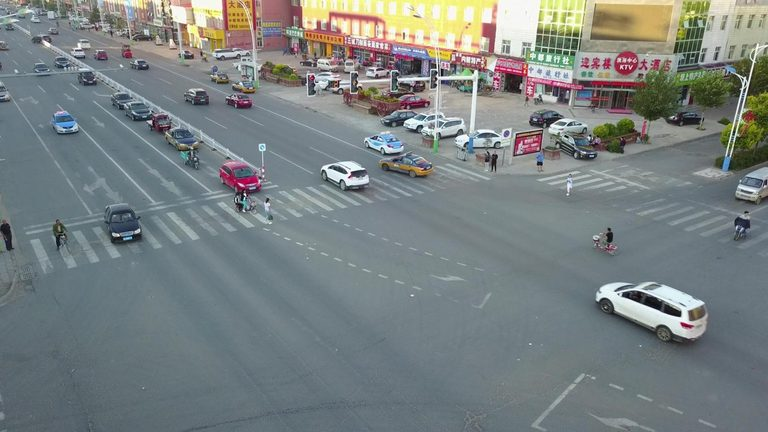bicycle: (54, 227, 73, 254), (232, 197, 258, 215)
car: (595, 280, 708, 343), (319, 160, 370, 190), (103, 203, 141, 243), (379, 151, 433, 178), (219, 162, 261, 195), (556, 131, 597, 160), (455, 129, 507, 149), (422, 117, 467, 139), (403, 111, 444, 134), (164, 127, 199, 151), (379, 110, 422, 128), (547, 118, 588, 136), (529, 110, 565, 129), (665, 110, 705, 127), (51, 111, 78, 134), (123, 101, 152, 121), (394, 95, 430, 111), (591, 234, 617, 256), (326, 80, 363, 95), (185, 88, 210, 106), (381, 87, 415, 100), (225, 93, 252, 109), (396, 77, 426, 91), (111, 92, 133, 111), (77, 67, 97, 86), (317, 78, 346, 90), (230, 80, 256, 93), (212, 49, 241, 60), (312, 72, 341, 82), (366, 66, 390, 78), (32, 62, 50, 75), (52, 55, 70, 68), (229, 47, 252, 57), (210, 72, 229, 84), (129, 60, 149, 71), (30, 33, 52, 43), (300, 56, 320, 67), (177, 49, 194, 59), (93, 49, 108, 60), (69, 48, 85, 58), (76, 39, 90, 50), (130, 34, 152, 41), (116, 28, 134, 36), (126, 30, 142, 38), (98, 21, 112, 29), (103, 26, 116, 33), (79, 22, 91, 29), (0, 41, 8, 50), (5, 23, 14, 31), (82, 17, 94, 23), (69, 15, 81, 21), (47, 28, 58, 34), (30, 17, 41, 23), (73, 16, 86, 21), (18, 12, 25, 19), (32, 15, 40, 19), (6, 10, 12, 15), (5, 7, 11, 12), (15, 6, 21, 11), (10, 12, 16, 16), (1, 5, 5, 10)
motor: (363, 130, 404, 155), (732, 217, 753, 241), (534, 94, 544, 106), (591, 102, 595, 112), (201, 57, 208, 62)
pedestrian: (0, 218, 15, 252), (263, 198, 273, 225), (536, 149, 544, 172), (566, 173, 574, 196), (490, 150, 497, 173), (484, 151, 490, 173), (619, 137, 625, 155), (523, 93, 530, 108), (110, 30, 114, 38), (94, 25, 98, 32), (71, 25, 75, 32), (200, 50, 203, 59), (87, 25, 90, 32), (68, 21, 71, 28), (115, 30, 117, 37), (75, 24, 77, 30)
people: (52, 219, 67, 251), (597, 227, 613, 251), (736, 211, 749, 239), (239, 190, 248, 213), (234, 194, 243, 211), (591, 136, 600, 149), (585, 133, 593, 147), (202, 53, 206, 61)
tricycle: (459, 81, 477, 93)
truck: (46, 11, 56, 20)
van: (734, 164, 768, 205), (316, 59, 339, 72), (344, 59, 355, 73)
